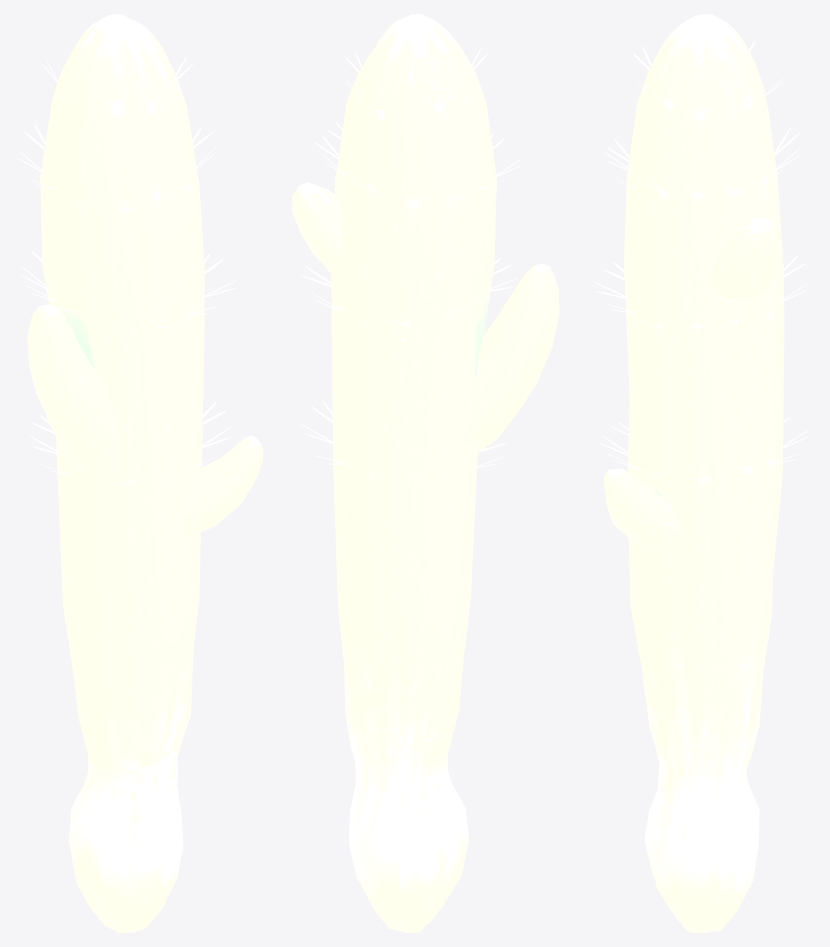
3 views of the same model, side by side, from view 1: azimuth 30°, elevation 25°; view 2: azimuth 150°, elevation 25°; view 3: azimuth 270°, elevation 25° (orthographic).
Visible parts, largest first — view 1: SM_Cactus_Pipe_01v2_LOD0; view 2: SM_Cactus_Pipe_01v2_LOD0; view 3: SM_Cactus_Pipe_01v2_LOD0.
Part boxes in pixels (left/top/right/bottom): SM_Cactus_Pipe_01v2_LOD0: left=19, top=14, right=263, bottom=932; SM_Cactus_Pipe_01v2_LOD0: left=292, top=14, right=559, bottom=932; SM_Cactus_Pipe_01v2_LOD0: left=594, top=14, right=809, bottom=932.
Size of the model in its own units: 0.6371 by 2.55 by 0.5735.
Materials: 1 (1 with a texture image).
